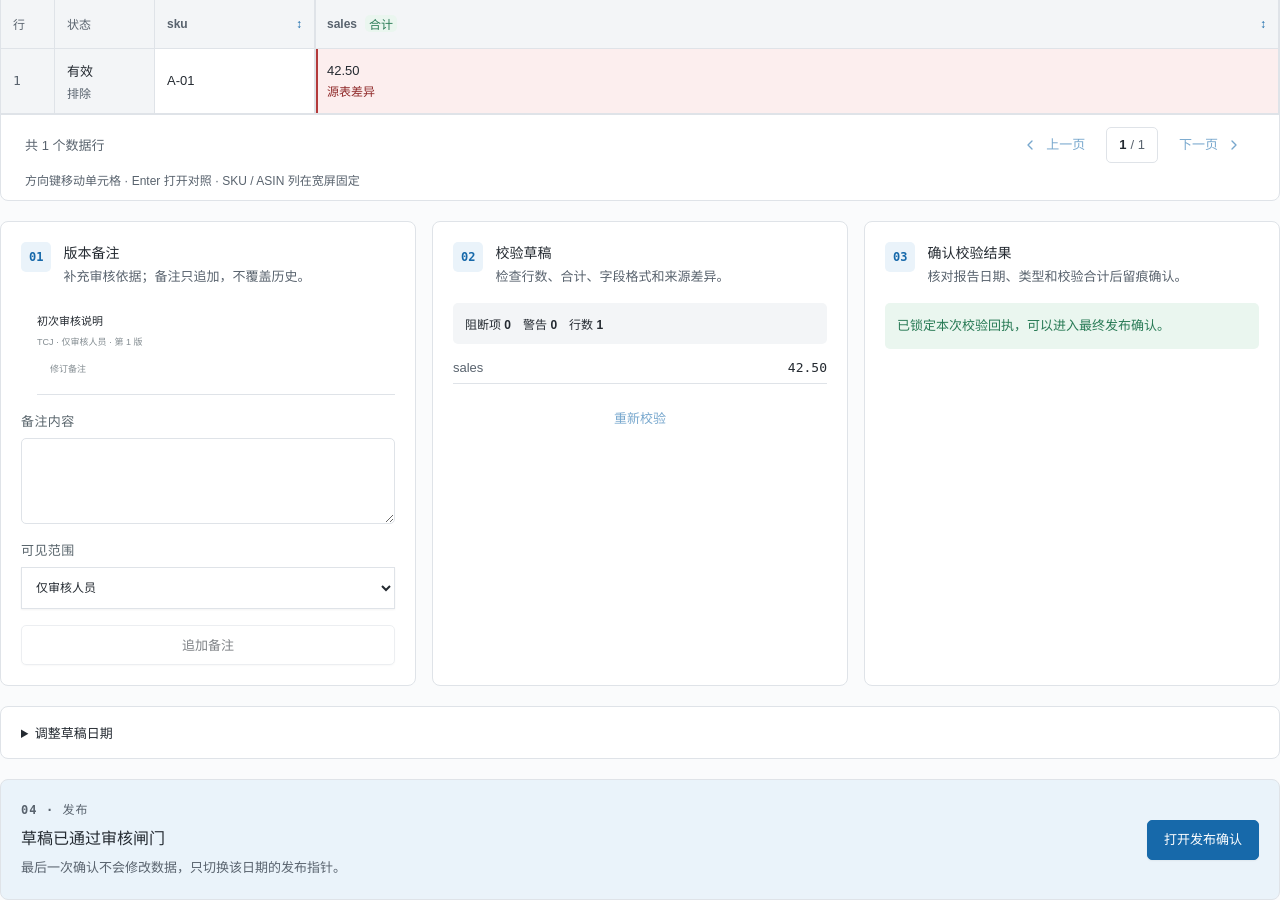
it: DraftReviewGate row and note commands › prefills downstream publication audit text from the authenticated operator
(page scrolled)
Click the button "打开发布确认" at (1203, 840), box [1147,820,1259,860]
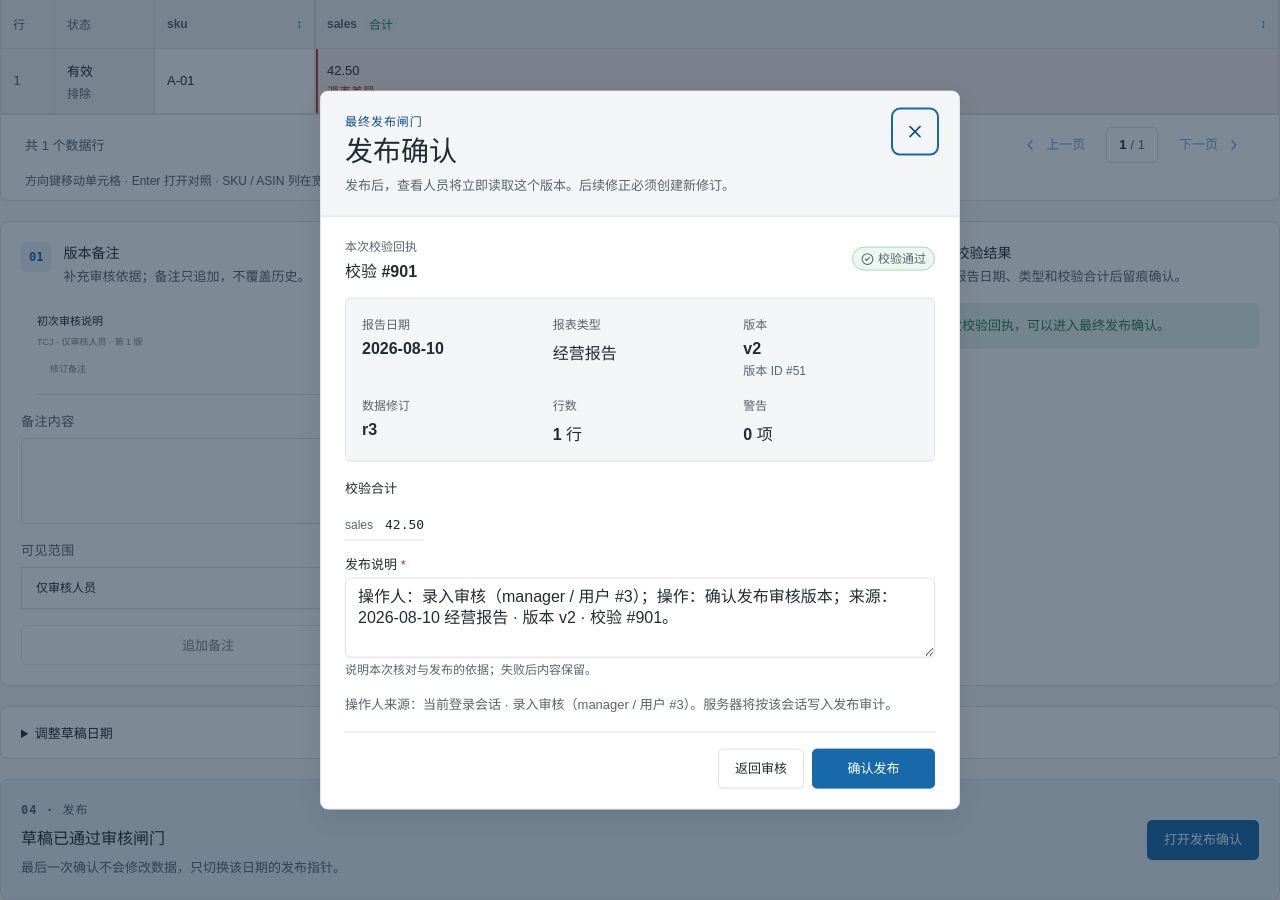
Expected: the text box labelled "发布说明" holds "操作人：录入审核（manager / 用户 #3）；操作：确认发布审核版本；来源：2026-08-10 经营报告 · 版本 v2 · 校验 #901。", [345,577,935,658]
Expected: the text "操作人来源：当前登录会话 · 录入审核（manager / 用户 #3）。服务器将按该会话写入发布审计。" is shown, [345,695,935,715]
